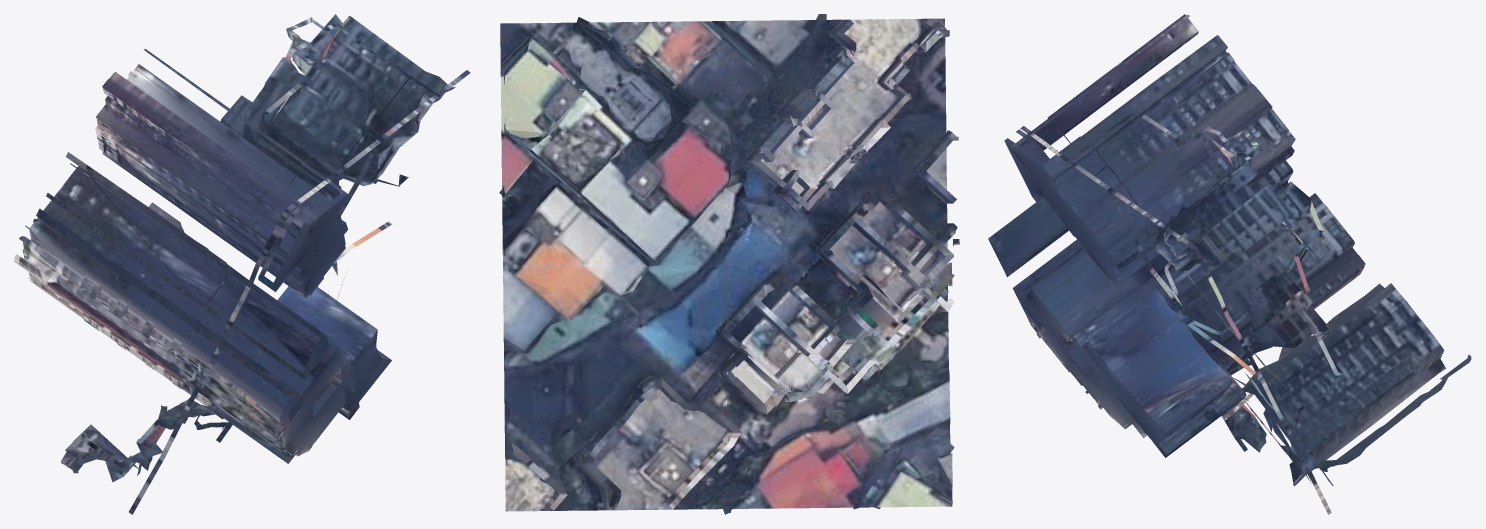
3 views of the same model, side by side, from view 1: azimuth 30°, elevation 25°; view 2: azimuth 150°, elevation 25°; view 3: azimuth 270°, elevation 25° (orthographic). The views are drawn at different scales.
Size of the model in its own units: 89.26 by 86.98 by 100.
Materials: 2 (2 with a texture image).
